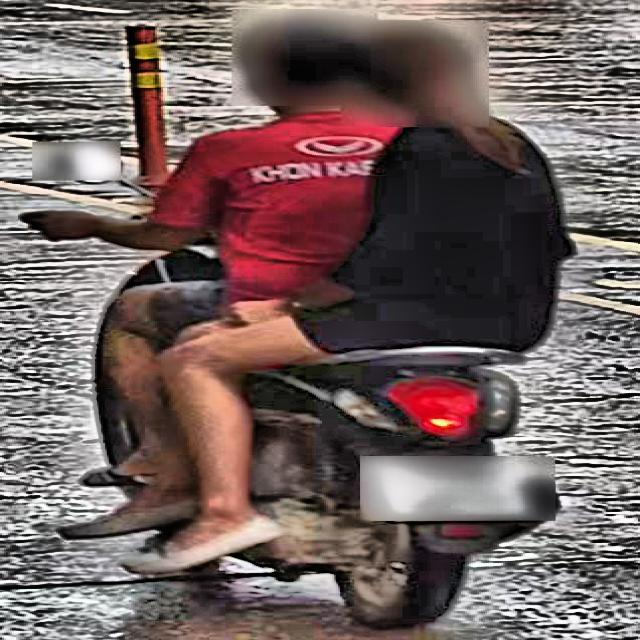motorcycle: (33, 130, 569, 630)
